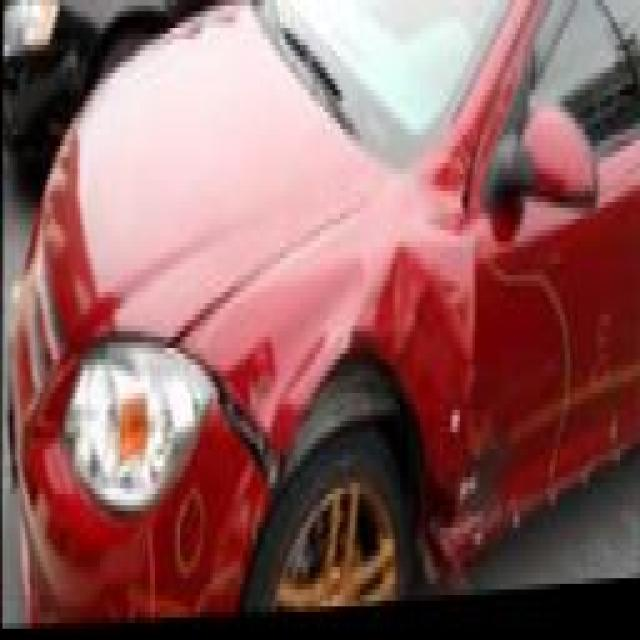rapairable: (368, 256, 512, 562), (210, 330, 343, 489)
